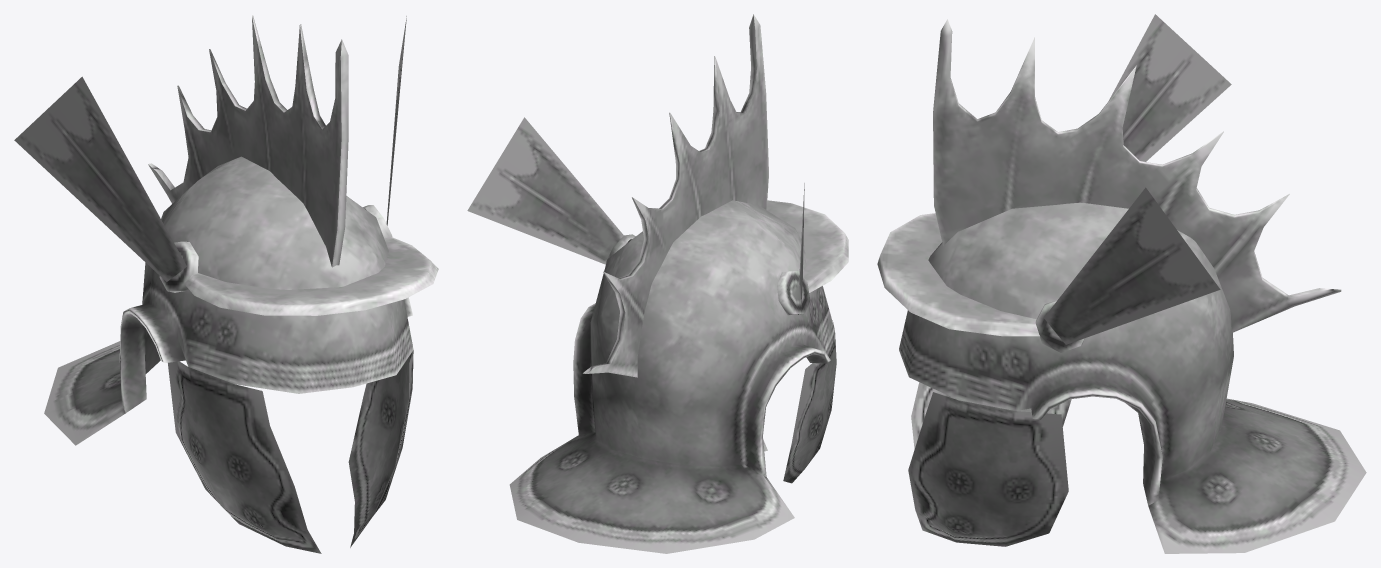
Rendered from helmet-championinfantry.glb.
3 renders of one model, left to right at view 1: azimuth 30°, elevation 25°; view 2: azimuth 150°, elevation 25°; view 3: azimuth 270°, elevation 25°, orthographic. The views are drawn at different scales.
Bounding box in the file's own units: 0.4496 × 0.5681 × 0.4888.
1 material, 1 textured.
